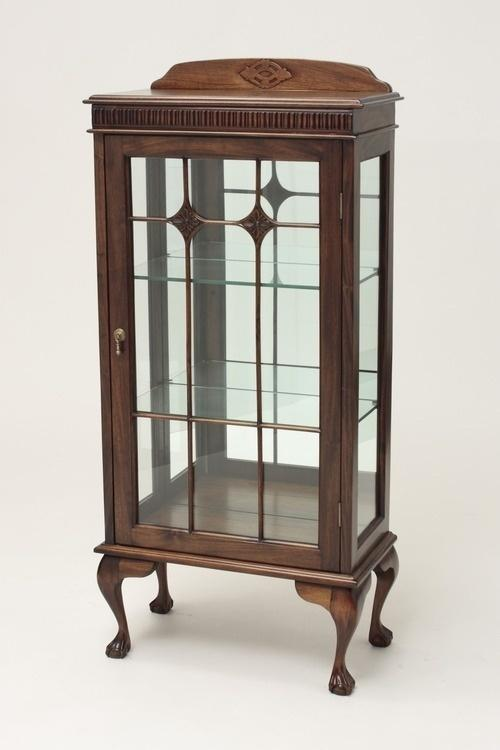cabinet_door: (109, 138, 351, 564)
